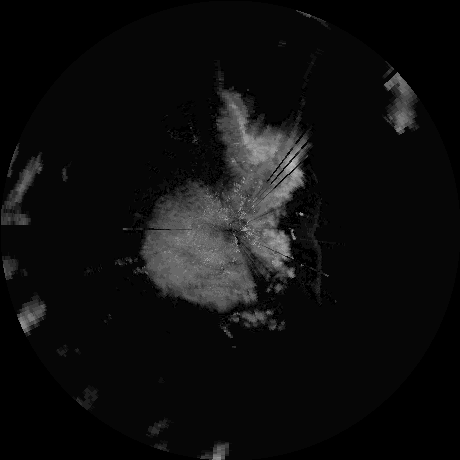frontgust: (306, 219, 325, 298)
